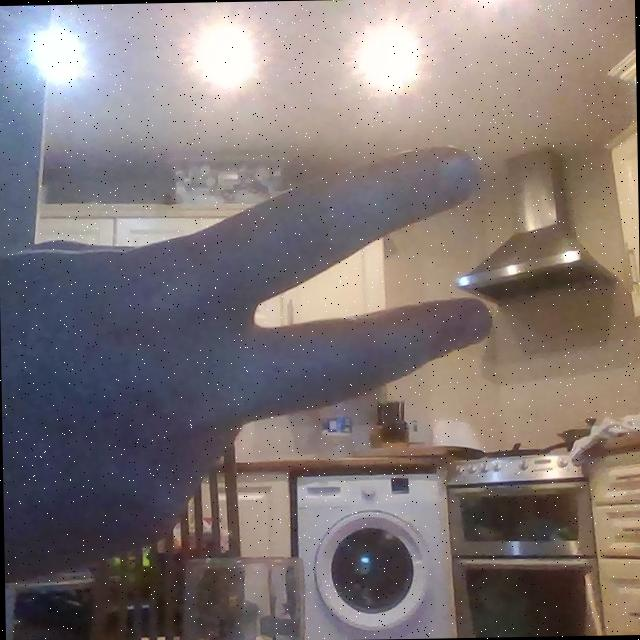scissors: (17, 141, 500, 577)
